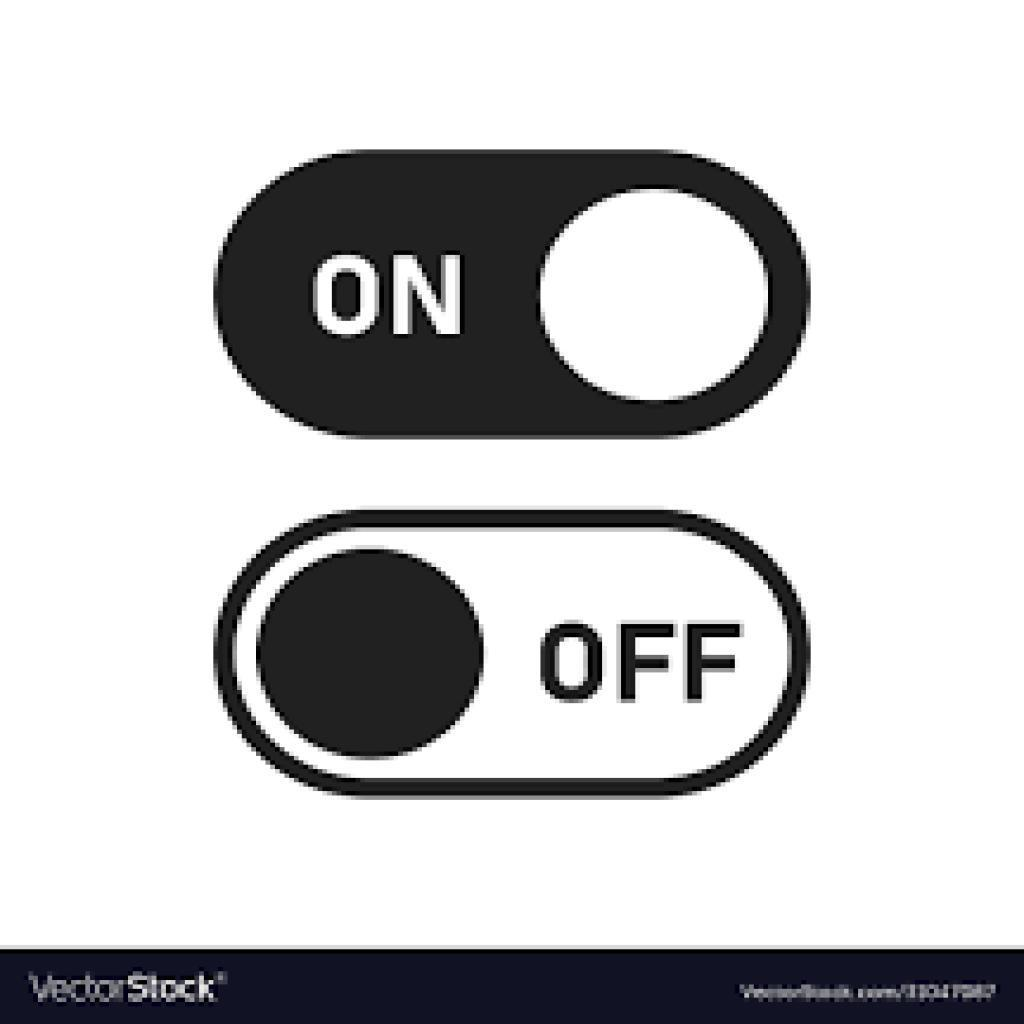switch: (213, 509, 815, 802), (212, 152, 813, 442)
